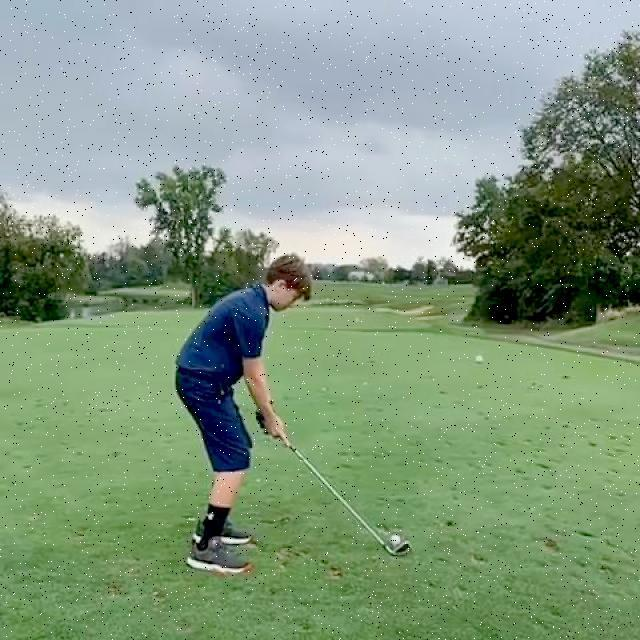ClubHead: (394, 540, 412, 557)
GolfBall: (391, 534, 402, 546)
